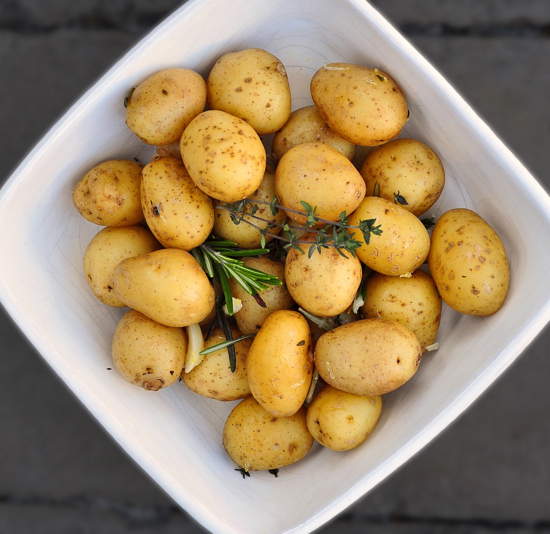boiled potatoes: (119, 90, 408, 411)
